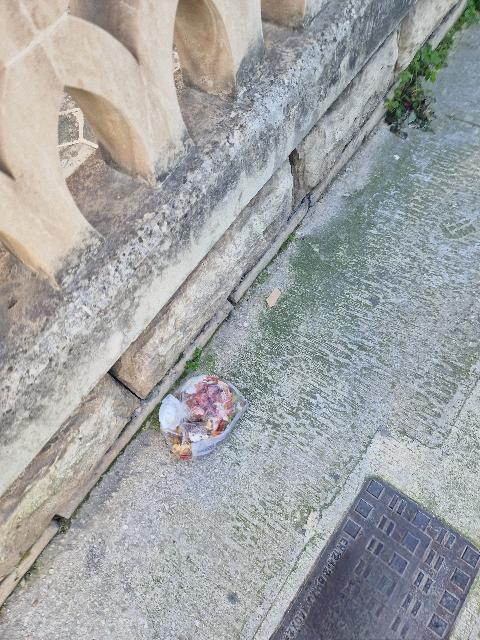Organic -White-: (159, 376, 247, 459)
